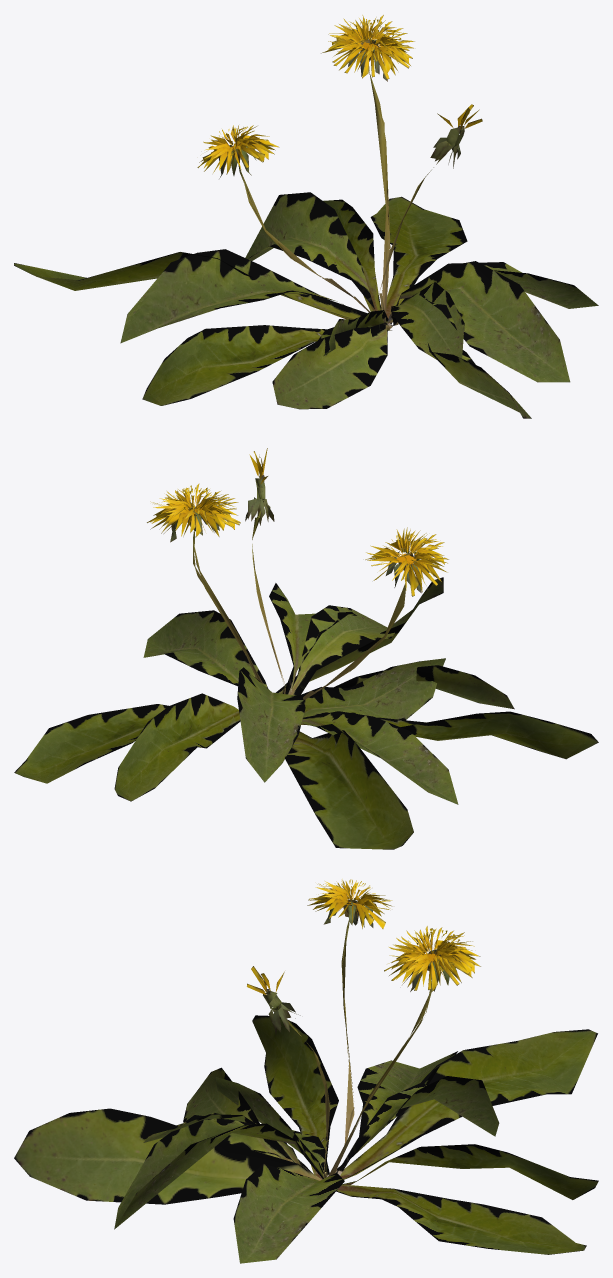
File: dandelion_01_v2.glb
3 renders of one model, top to bottom at view 1: azimuth 30°, elevation 25°; view 2: azimuth 150°, elevation 25°; view 3: azimuth 270°, elevation 25°, orthographic. The views are drawn at different scales.
Visible parts, largest first — view 1: lod0; view 2: lod0; view 3: lod0.
Part boxes in pixels (bbox=[...]): lod0: bbox=[14, 15, 598, 418]; lod0: bbox=[14, 448, 598, 849]; lod0: bbox=[14, 879, 598, 1263].
Size of what is drawn, in the model's own units: 0.2017 by 0.1129 by 0.2168.
1 material, 1 textured.
